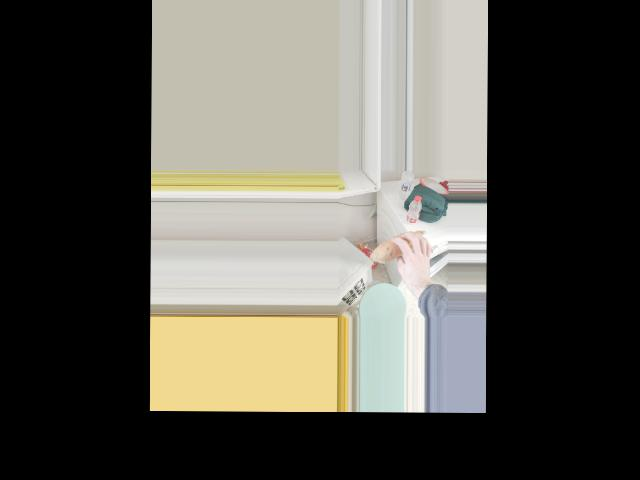sweet_potato: (372, 230, 428, 263)
